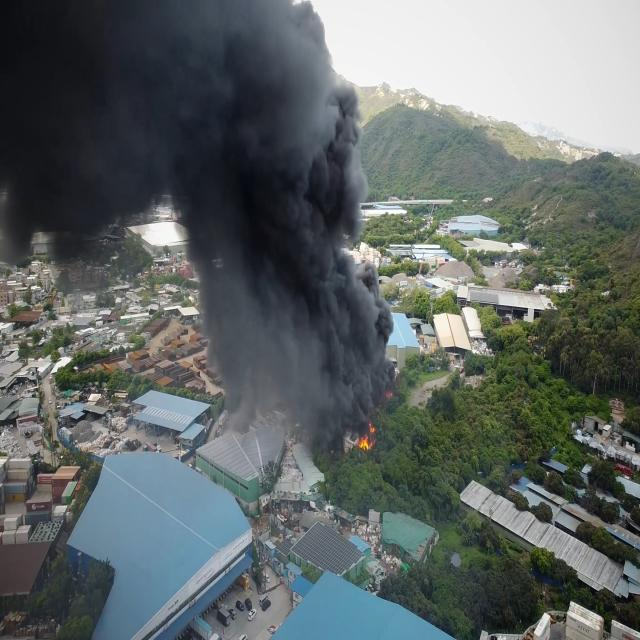Fire: (346, 383, 378, 455), (379, 382, 399, 414)
Smoke: (138, 4, 372, 244), (0, 1, 136, 287), (188, 247, 396, 380), (213, 382, 344, 460)
